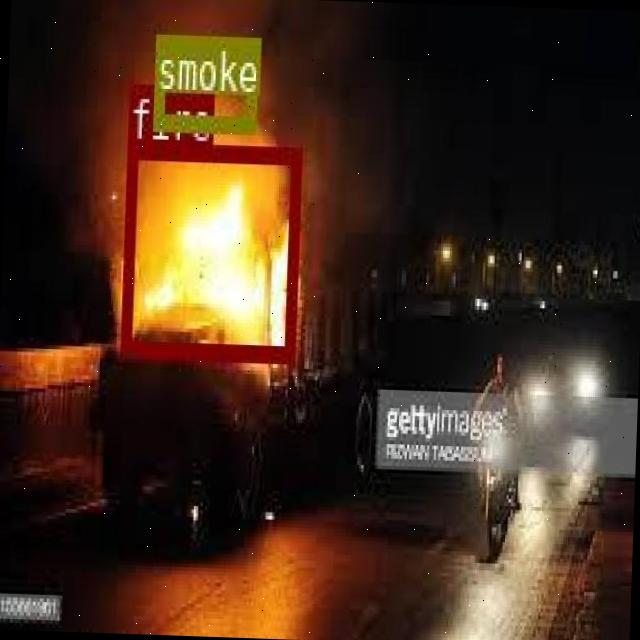fire: (120, 138, 300, 360)
smoke: (153, 33, 255, 128)
